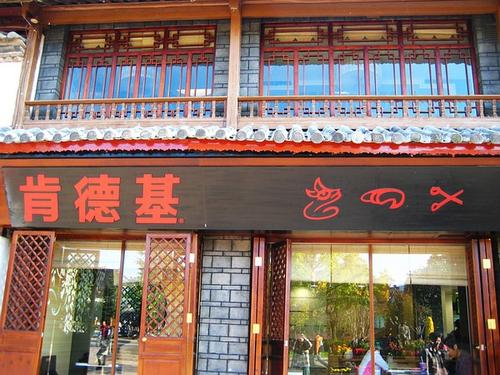chinese: (16, 169, 188, 228)
naxi: (302, 177, 466, 221)
